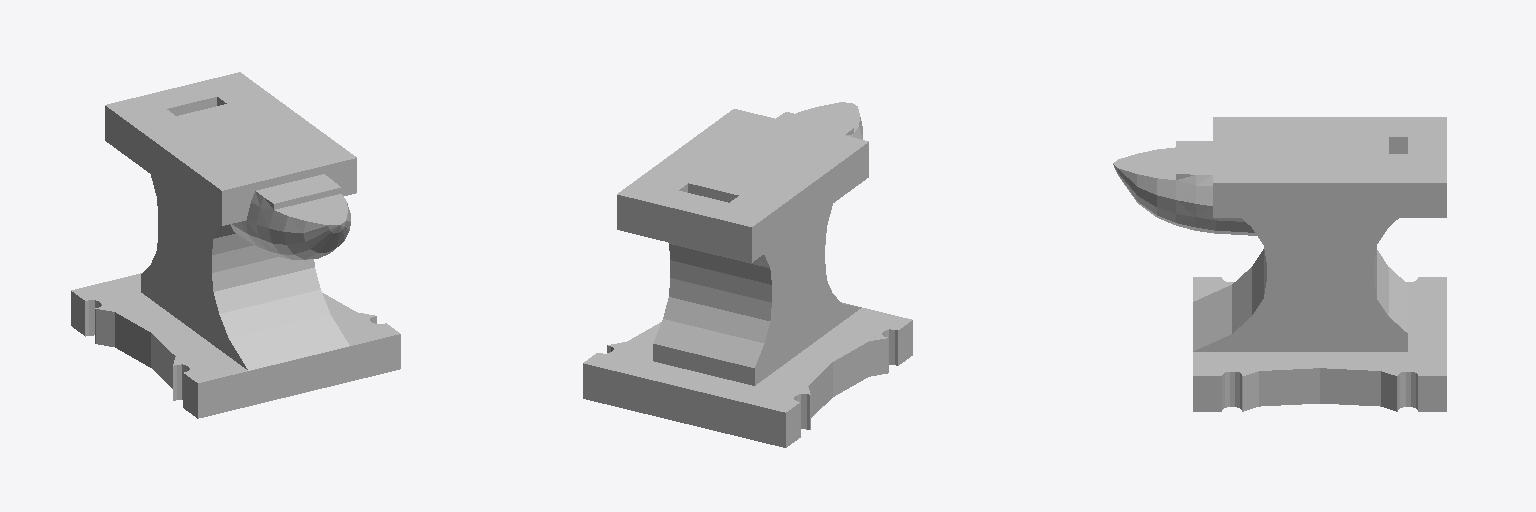
The model's file is pigiron_anvil.obj.
3 views of the same model, side by side, from view 1: azimuth 30°, elevation 25°; view 2: azimuth 150°, elevation 25°; view 3: azimuth 270°, elevation 25° (orthographic).
Parts seen in each view (by area): view 1: Cube_Cube.001; view 2: Cube_Cube.001; view 3: Cube_Cube.001.
Boxes of the visible parts, x1=… form: Cube_Cube.001: x1=71, y1=72, x2=400, y2=418; Cube_Cube.001: x1=583, y1=102, x2=912, y2=447; Cube_Cube.001: x1=1113, y1=117, x2=1446, y2=411.
Size of the model in its own units: 0.75 by 0.75 by 1.07.